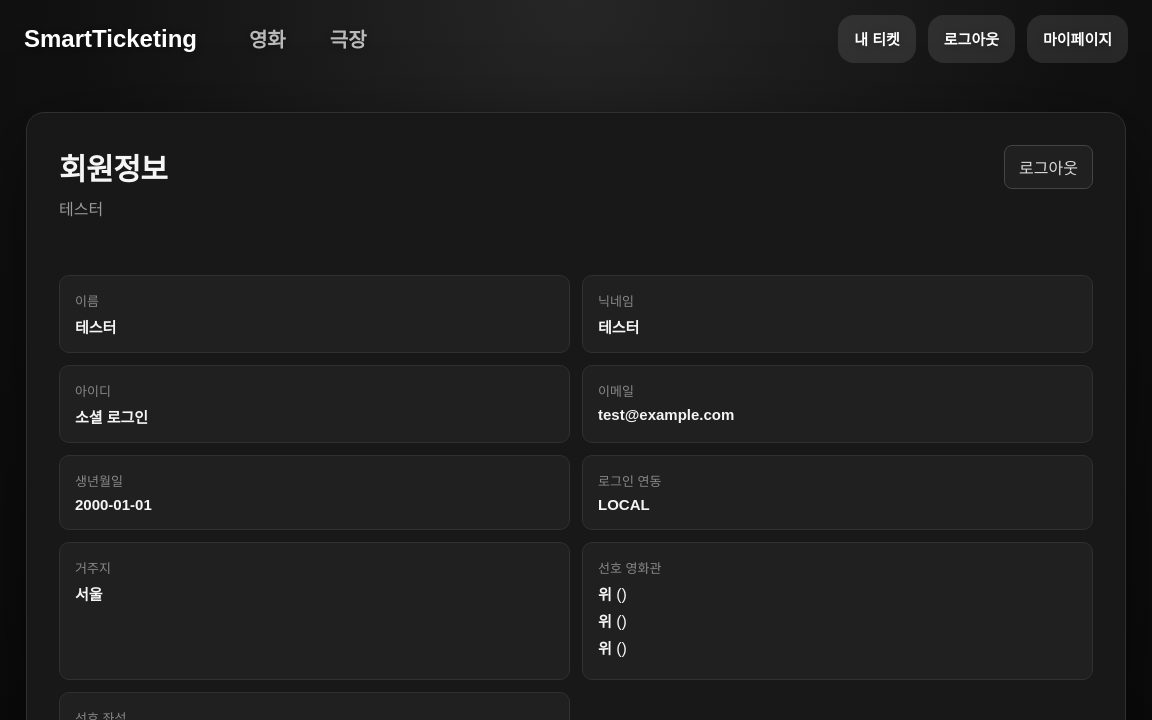
it: logout clears the session and leaves member routes
Expected: the heading "회원정보" is shown, 59,145 -> 167,189
Click the button "로그아웃" next to "내 티켓".
click(971, 38)  # box 928,14 -> 1015,62
(page scrolled)
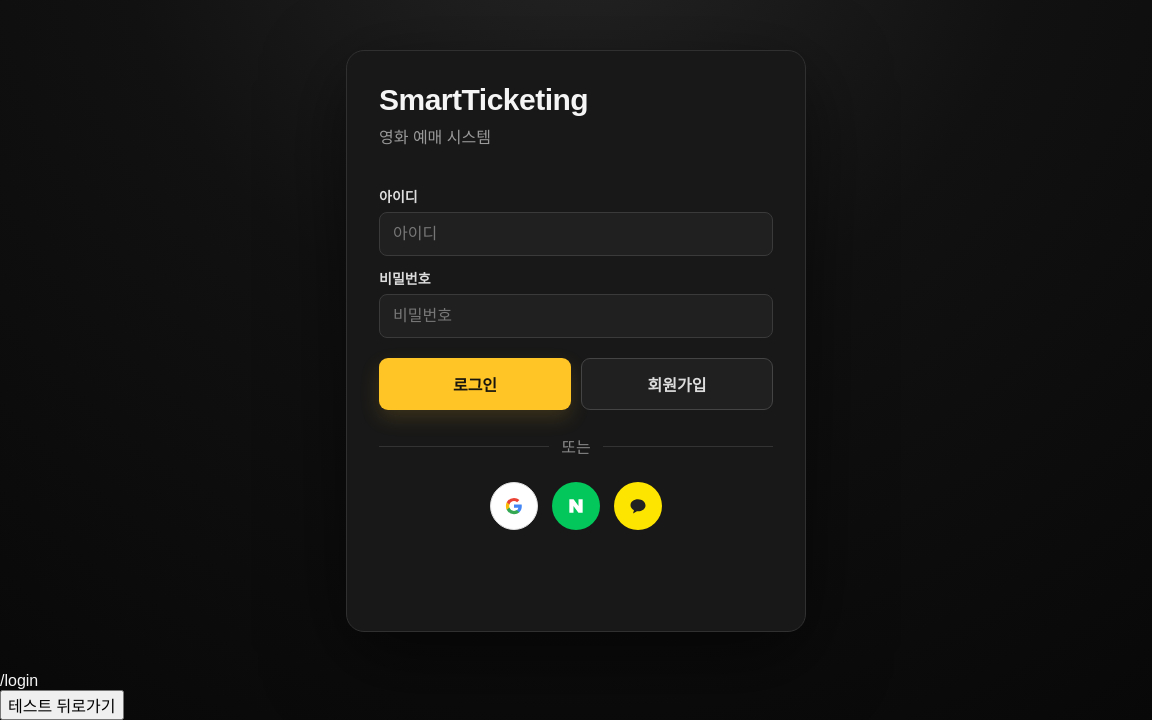
Result: the text with test id "location" reads "/login" at 0,672 -> 38,689
